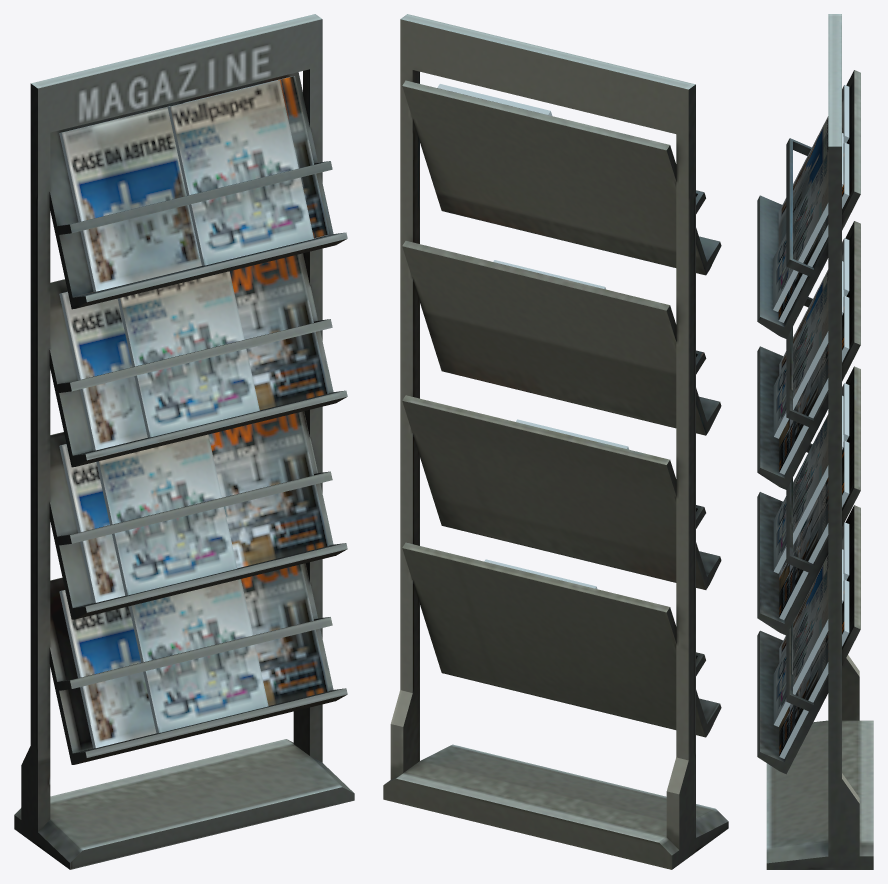
Rendered from 3Dguoji_JYJY_BKSJ01_ljw.FBX.
3 views of the same model, side by side, from view 1: azimuth 30°, elevation 25°; view 2: azimuth 150°, elevation 25°; view 3: azimuth 270°, elevation 25° (orthographic). The views are drawn at different scales.
Parts seen in each view (by area): view 1: 3Dguoji_JYJY_BKSJ01_ljw; view 2: 3Dguoji_JYJY_BKSJ01_ljw; view 3: 3Dguoji_JYJY_BKSJ01_ljw.
Boxes of the visible parts, <box> form: 3Dguoji_JYJY_BKSJ01_ljw: <box>14,14,354,869</box>; 3Dguoji_JYJY_BKSJ01_ljw: <box>383,14,728,869</box>; 3Dguoji_JYJY_BKSJ01_ljw: <box>757,14,873,869</box>.
Size of the model in its own units: 0.4121 by 1.05 by 0.1525.
